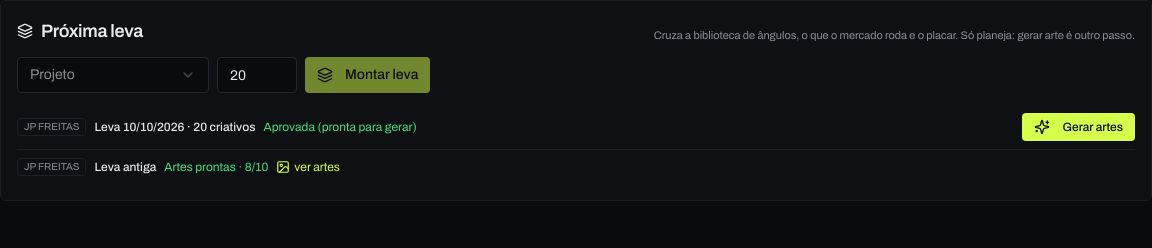
Próxima leva › leva aprovada pede a oferta e manda gerar; leva pronta mostra o link das artes
Later steps or results of the test are not shown.
Click the button "Gerar artes".
click(1079, 127)  # box x1=1022 y1=113 x2=1135 y2=141
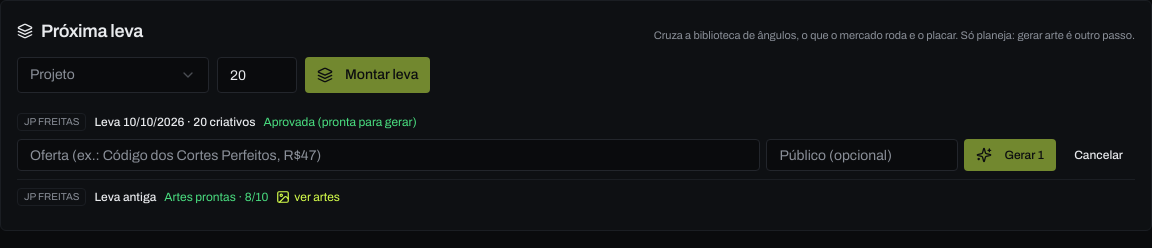
Now the button "Gerar 1" is disabled, box x1=964 y1=139 x2=1056 y2=171
